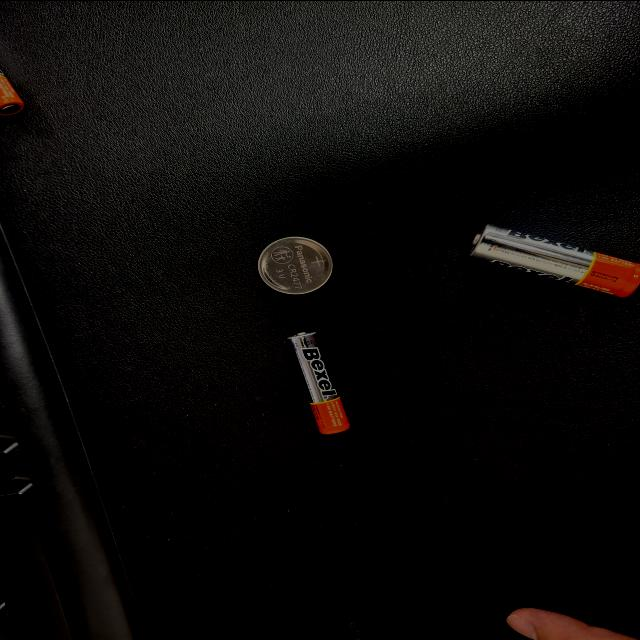AA: (297, 161, 393, 285)
AAA: (440, 376, 580, 424), (91, 622, 153, 640)
COIN: (314, 388, 391, 448)
